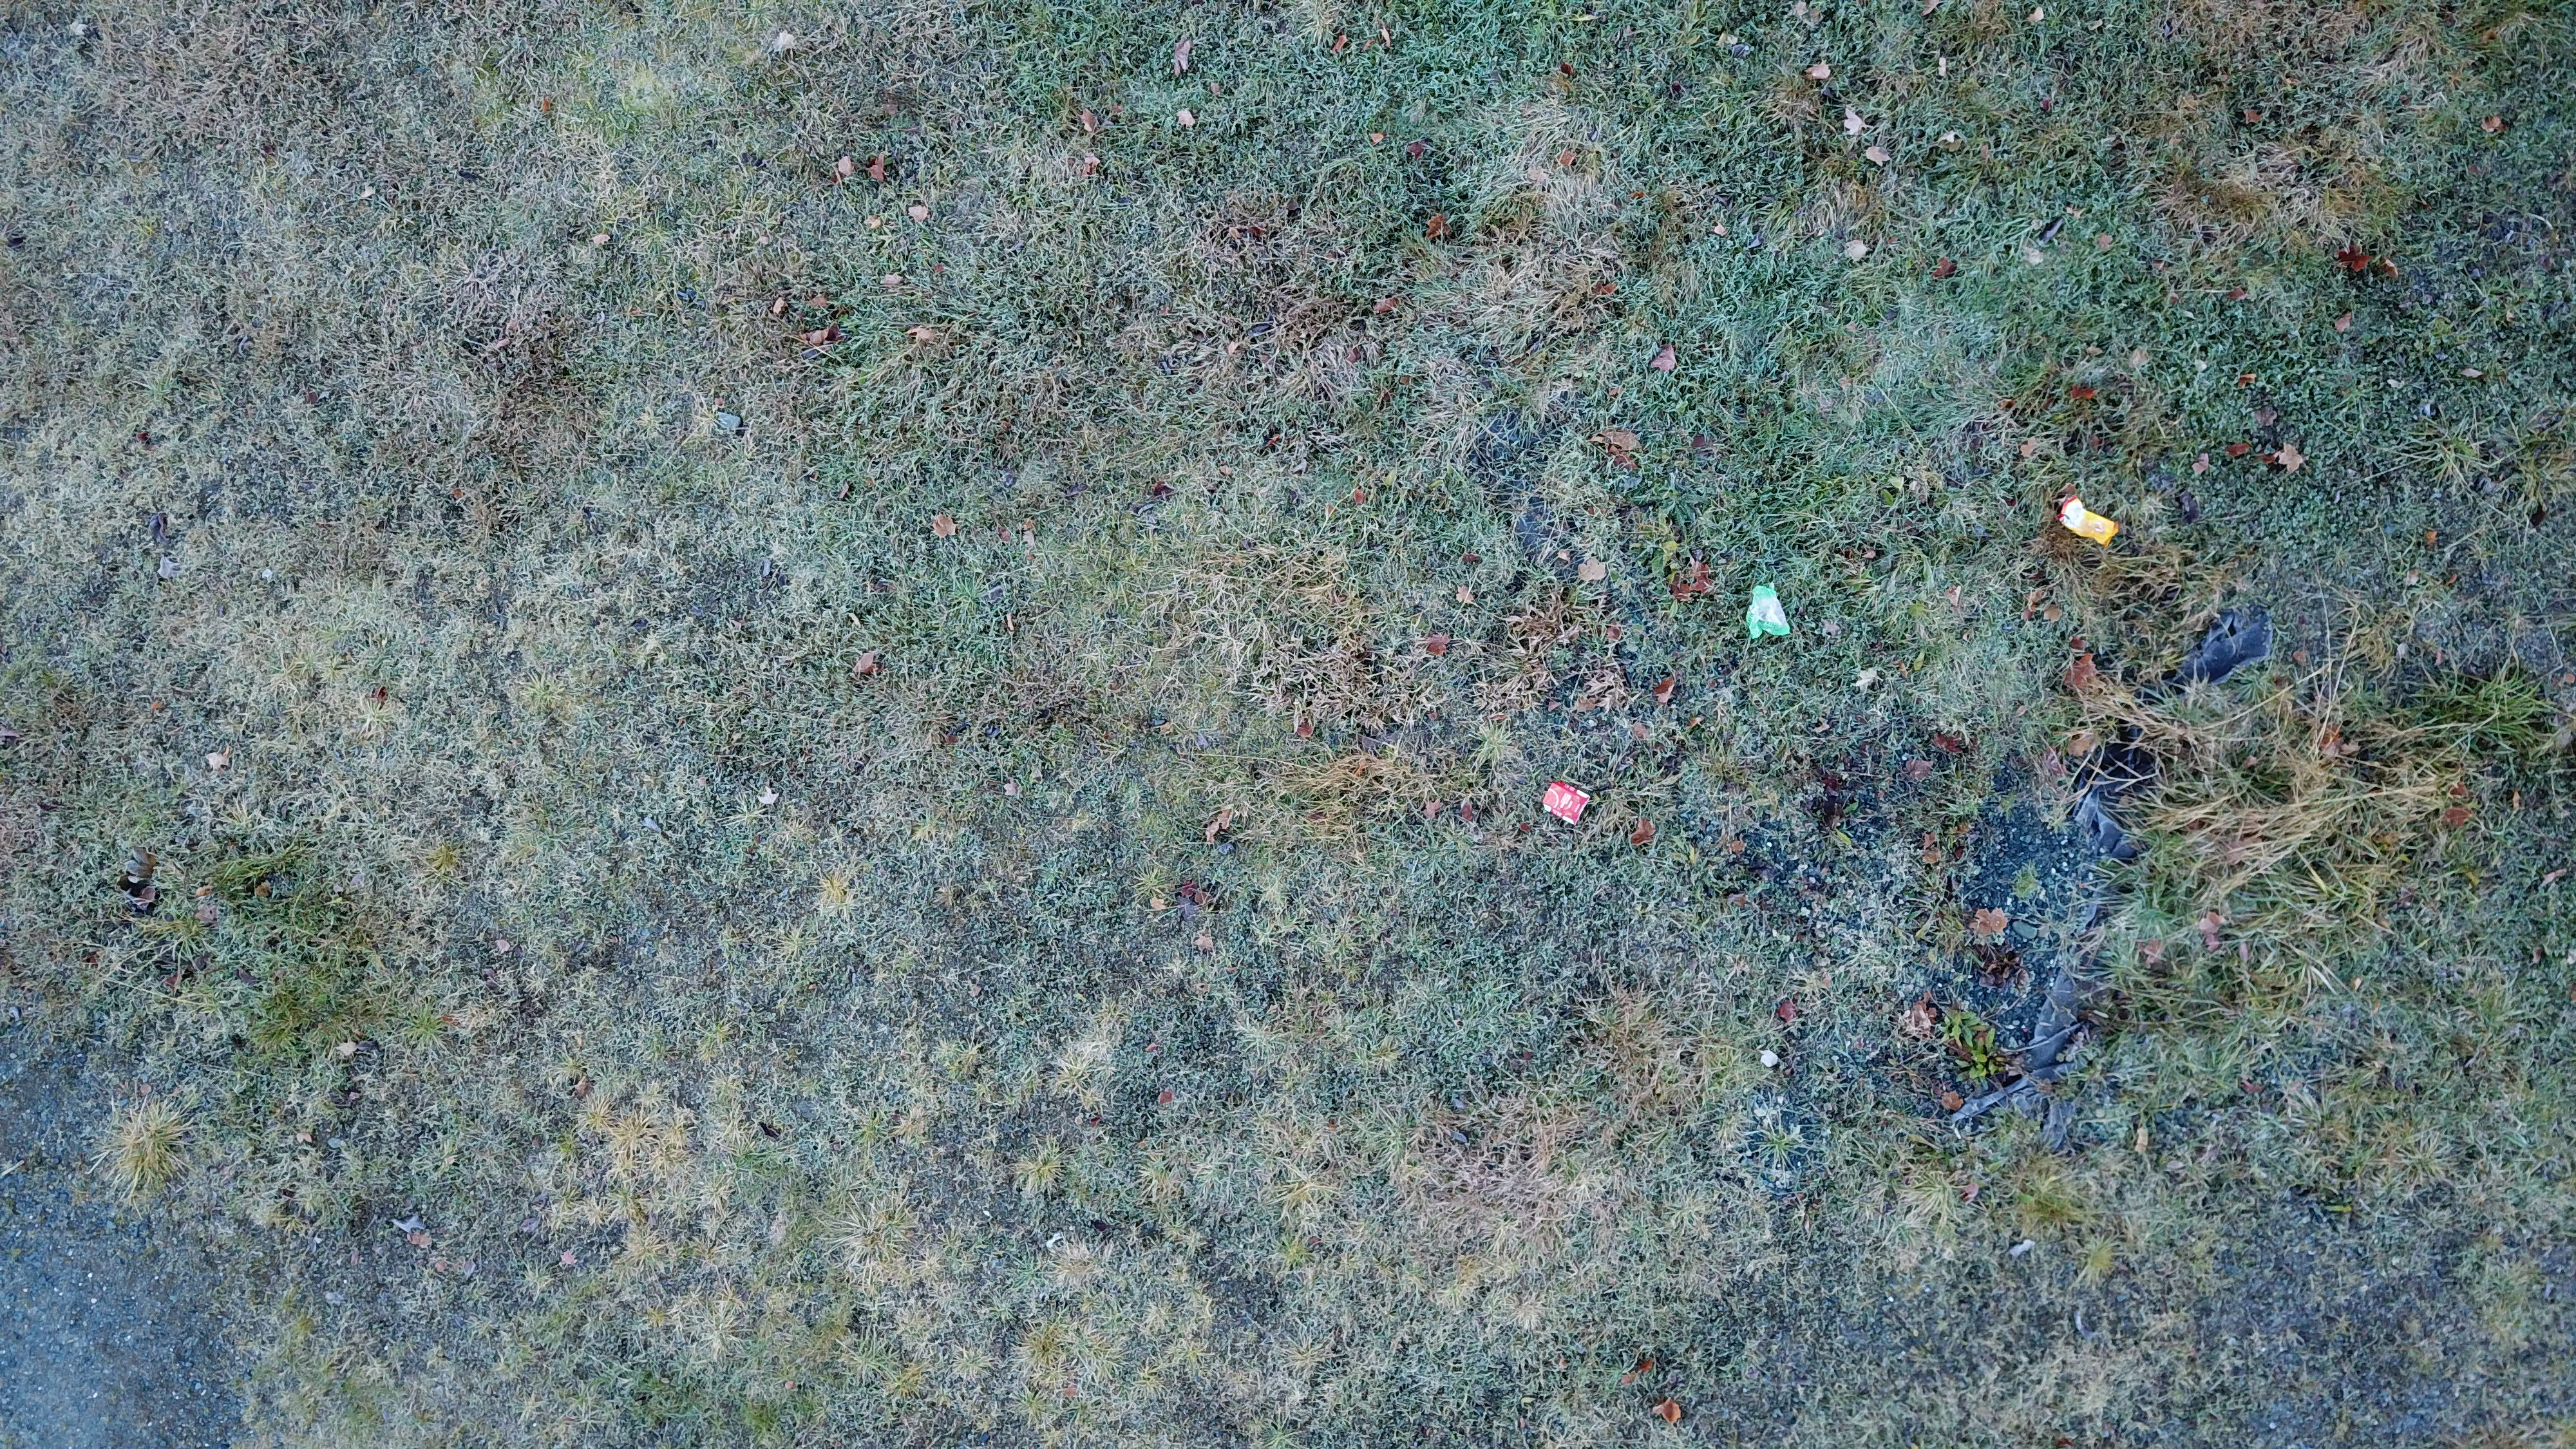Plastic: (2056, 494, 2121, 548), (1746, 582, 1792, 640), (1545, 780, 1592, 828), (1759, 1047, 1780, 1067)
